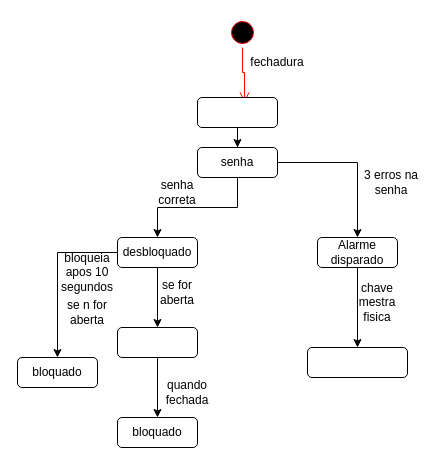
Image size: 439x465. Some labels were removed from this diagram. Each missing label, with the box of its shape:
bloqueado: (196, 96, 278, 128)
bloqueado(estado normal): (306, 346, 408, 378)
Porta aberta: (116, 326, 198, 358)
